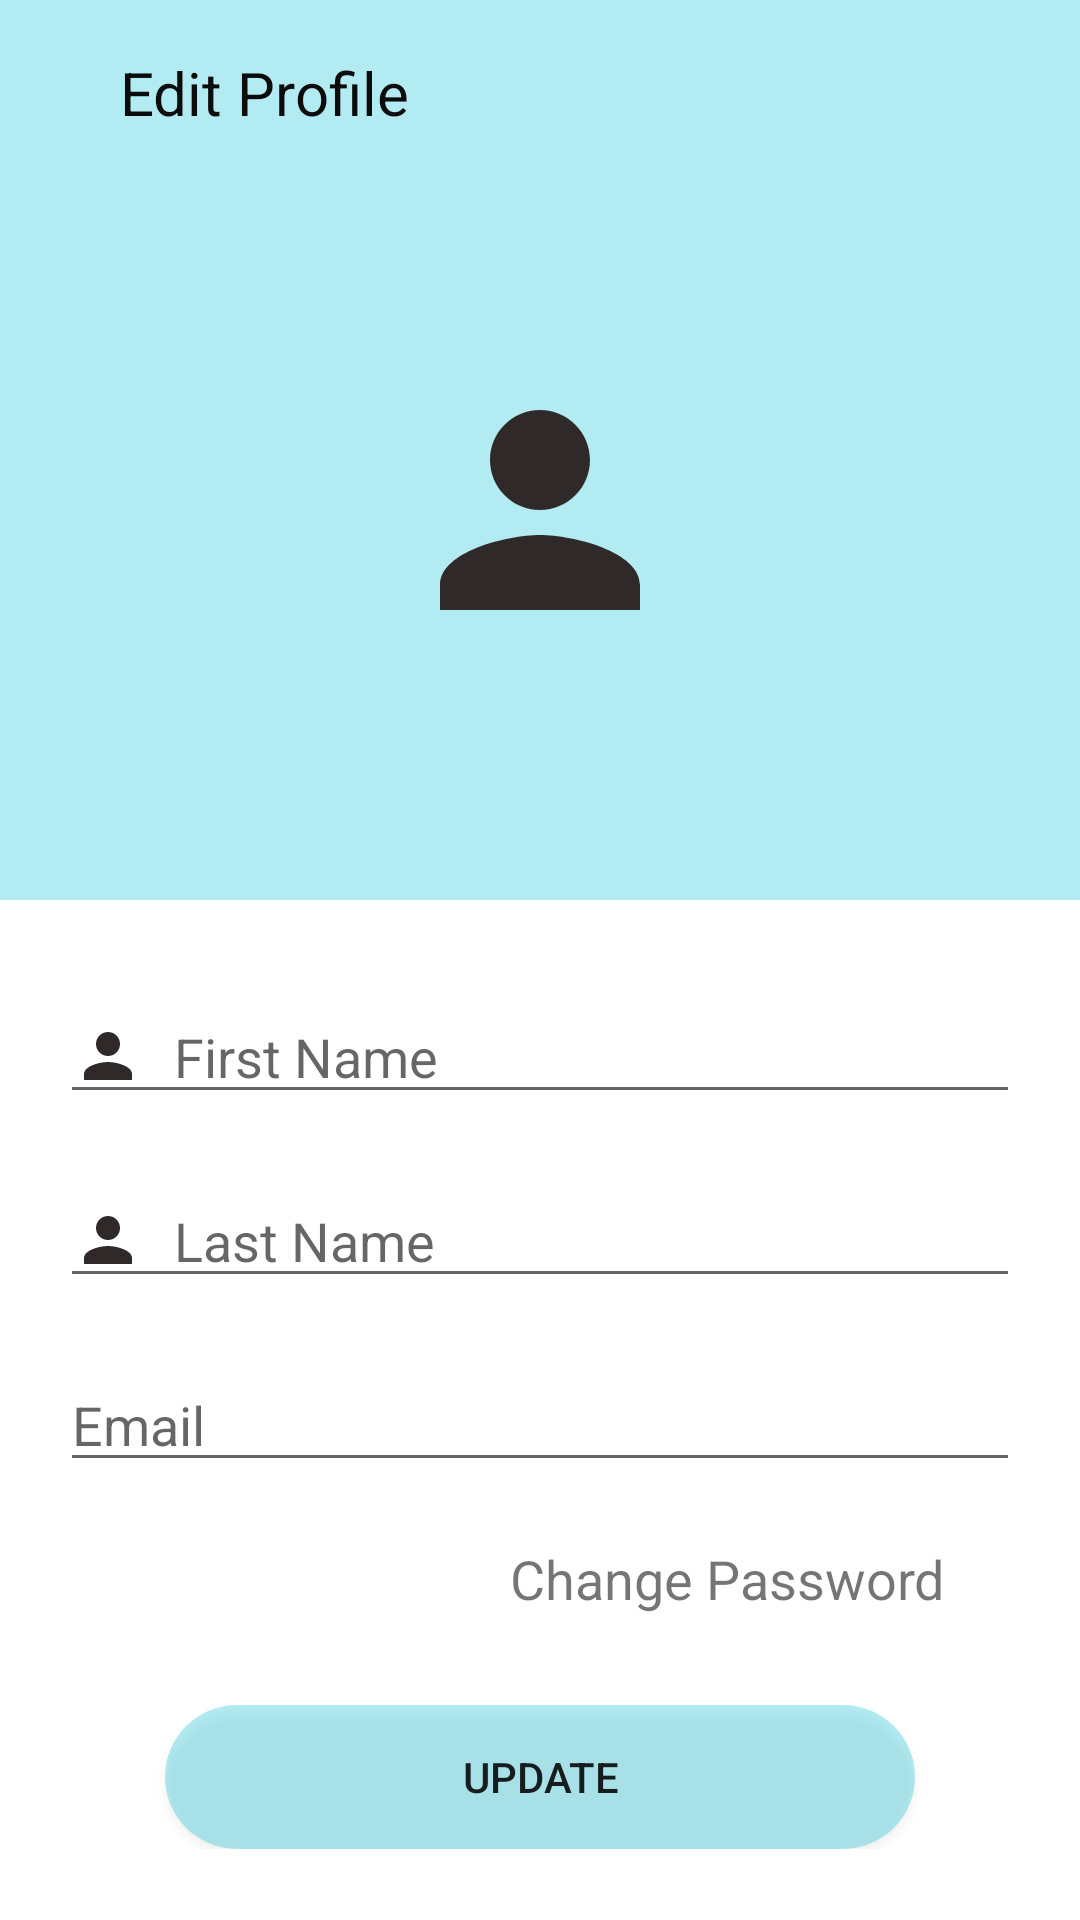

Named icons in this screenshot (1080px x 1920px) and their bounding boxes, (x1, y1, x2, y2):
person: (440, 410, 640, 610)
